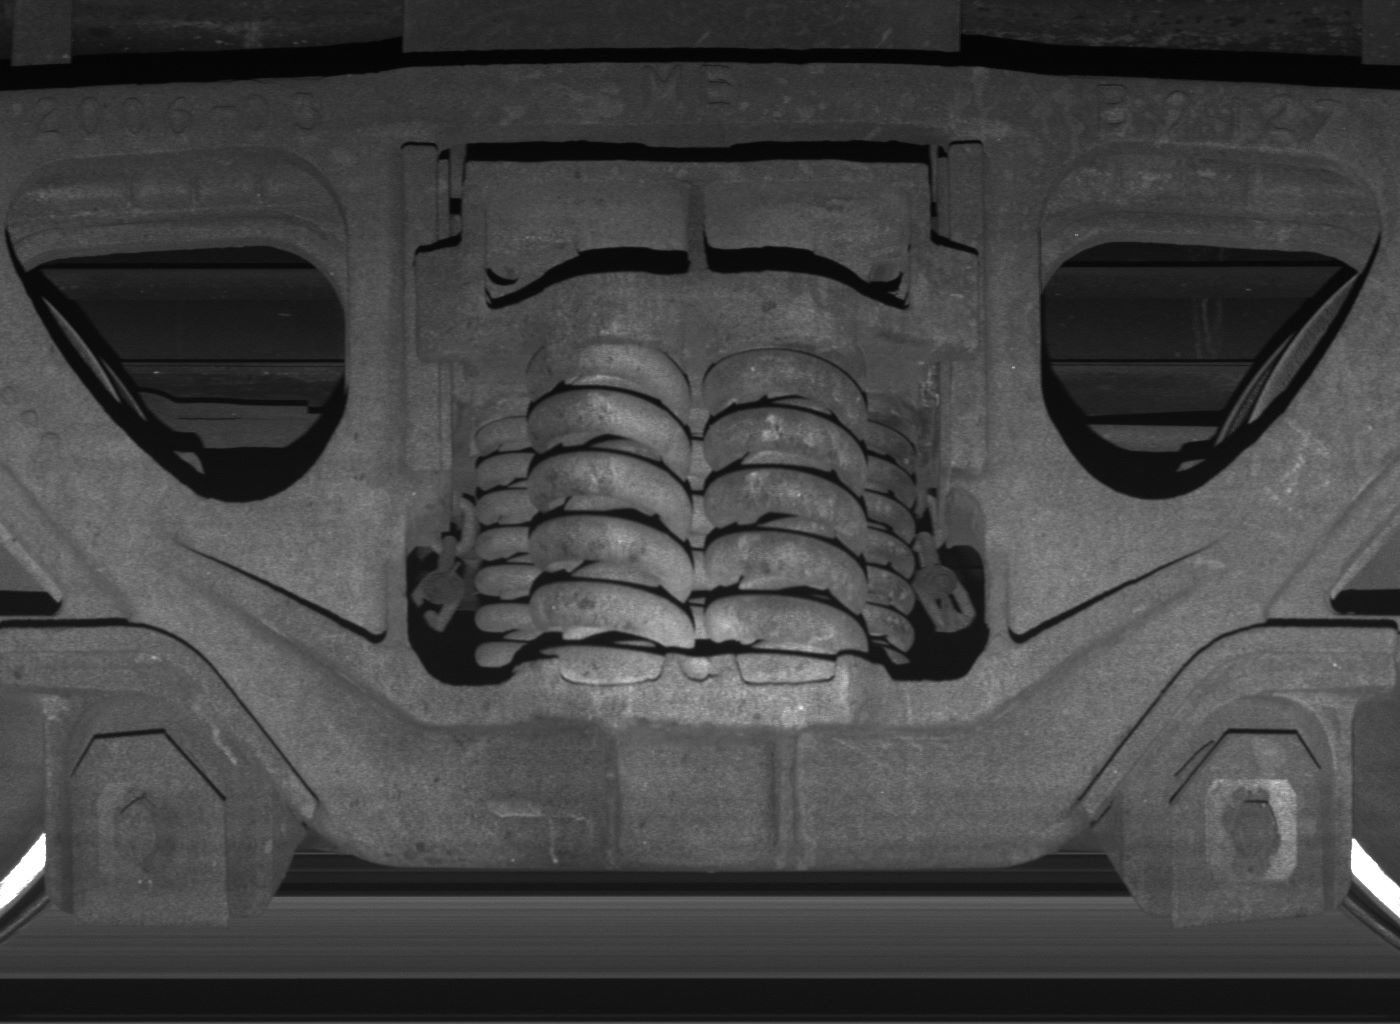normal: (43, 691, 268, 928), (1122, 699, 1351, 925)
